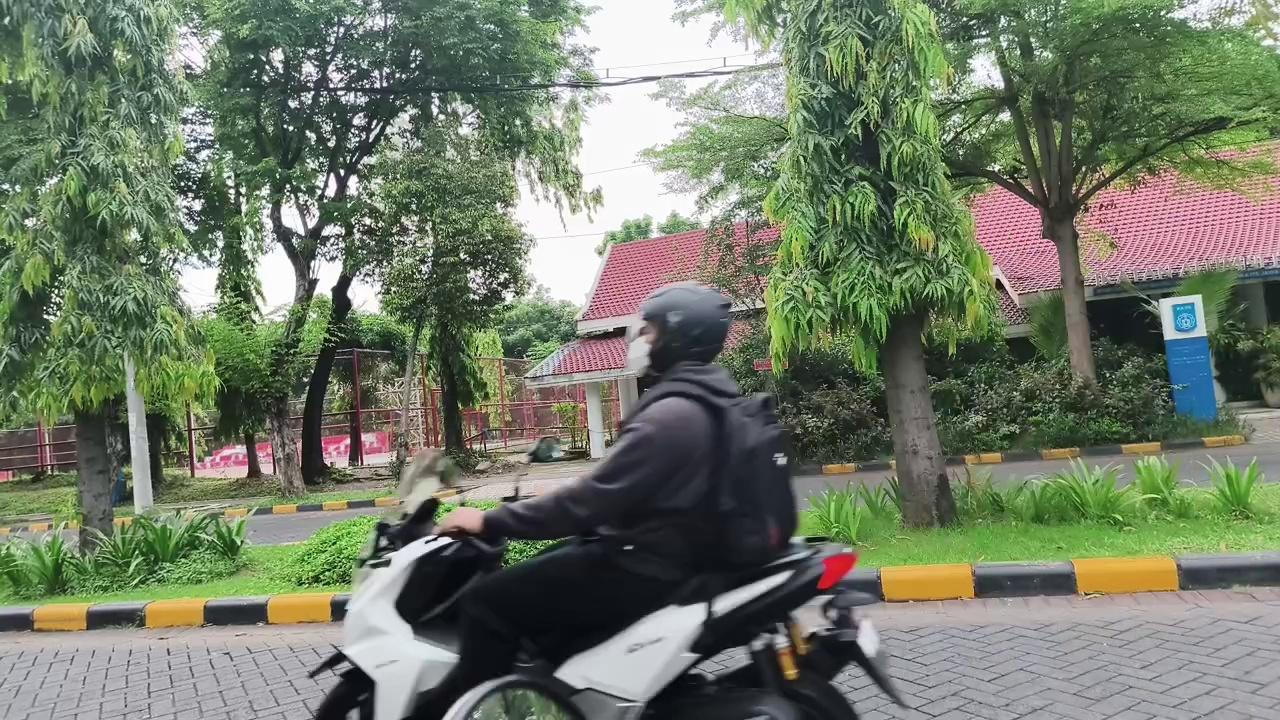Helmet: (415, 394, 717, 717)
Motor: (528, 541, 900, 719)
